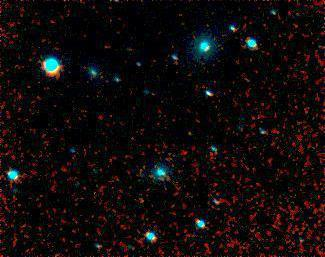star: (128, 188, 158, 218)
